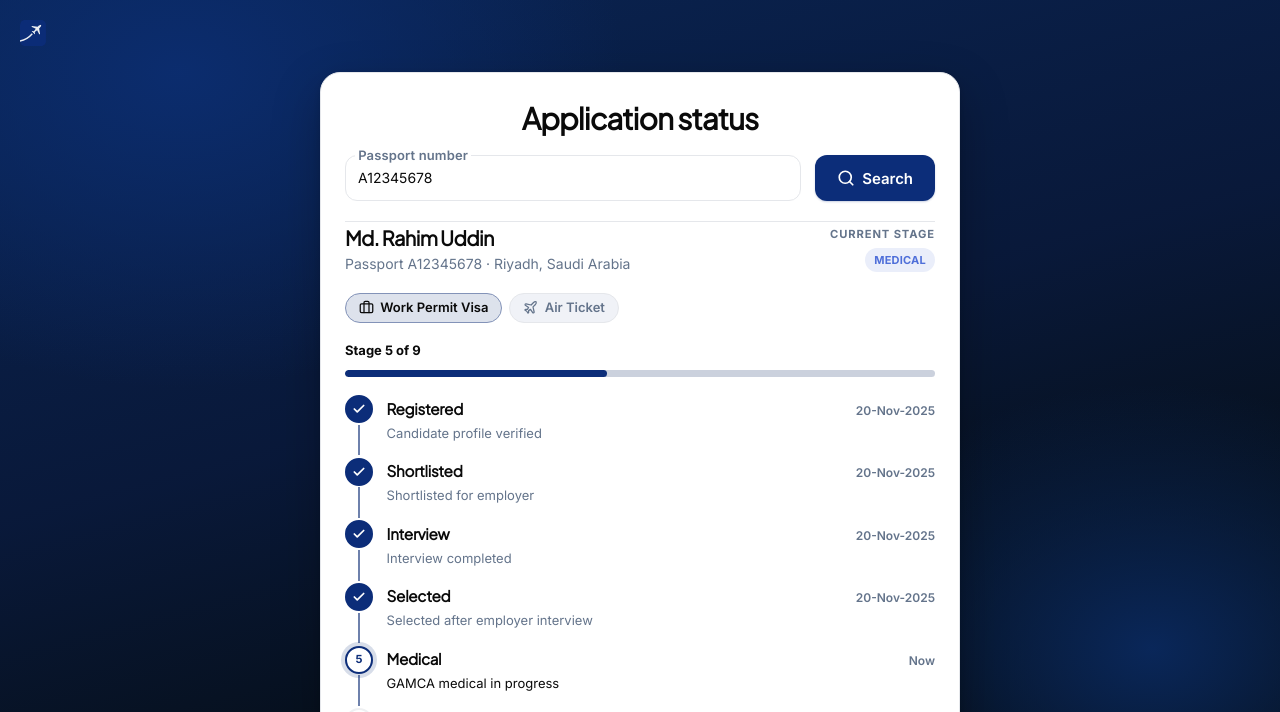
it: public client tracking › switches the journey when another service chip is selected
Click the button "Air Ticket" at (564, 308), box [509, 293, 619, 323]
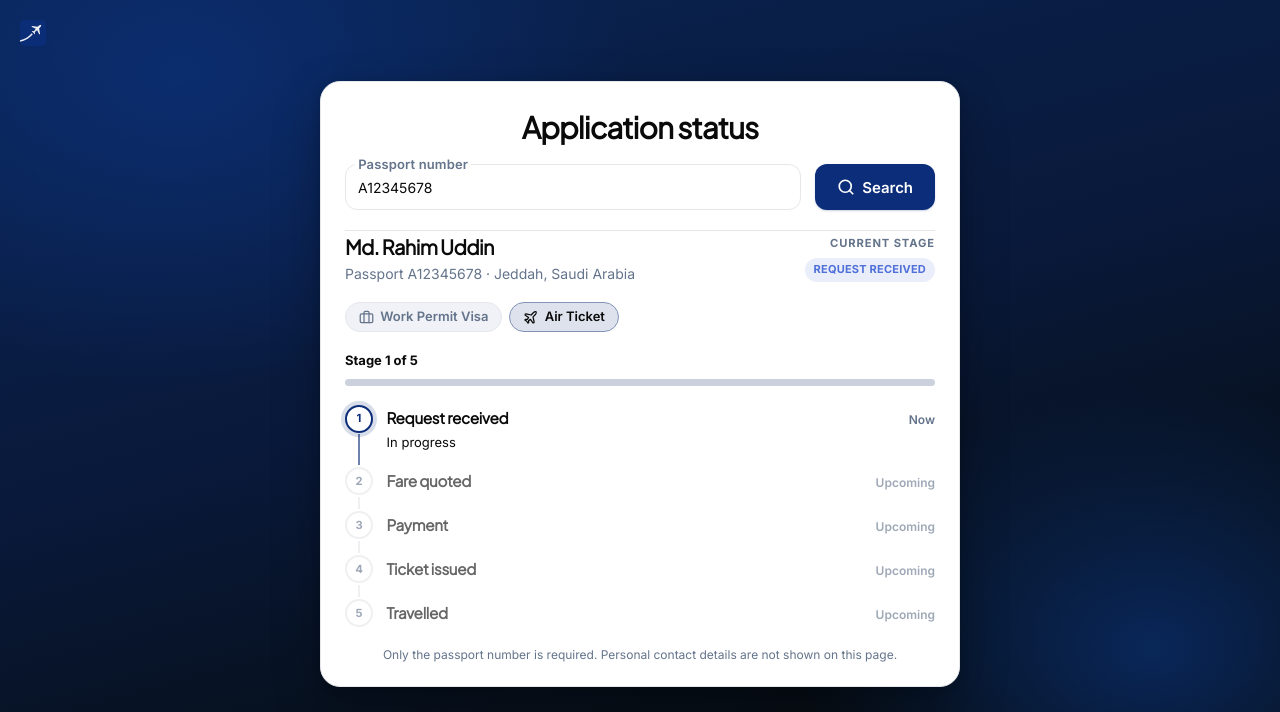
Expected: the text "Passport A12345678 · Jeddah, Saudi Arabia" is shown, [345, 263, 635, 284]
Expected: the text "Fare quoted" is shown, [387, 470, 471, 492]
Expected: the text "GAMCA medical in progress" is gone
